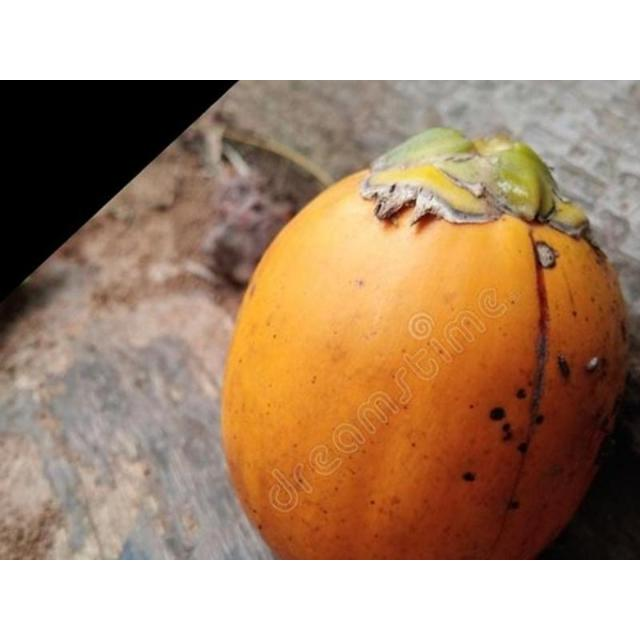good: (219, 128, 632, 559)
